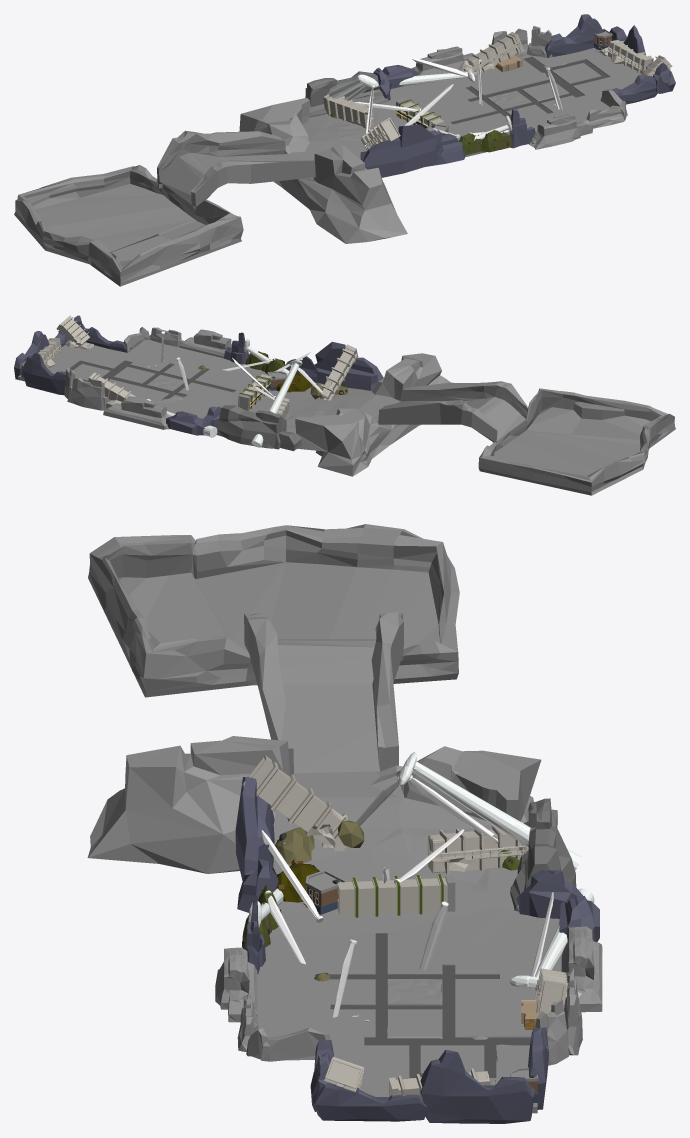
Rendered from WIL_ThirdLevel_Border_Final_Buildings_On_level.fbx.
3 views of the same model, one above another, from view 1: azimuth 30°, elevation 25°; view 2: azimuth 150°, elevation 25°; view 3: azimuth 270°, elevation 25° (orthographic). The views are drawn at different scales.
Parts seen in each view (by area): view 1: City Base; view 2: City Base; view 3: City Base.
Part boxes in pixels (box(x1,y1,x2,y2)): City Base: box(14, 14, 675, 286); City Base: box(14, 315, 675, 495); City Base: box(87, 524, 602, 1123).
Size of the model in its own units: 270111 by 33113 by 105265.
